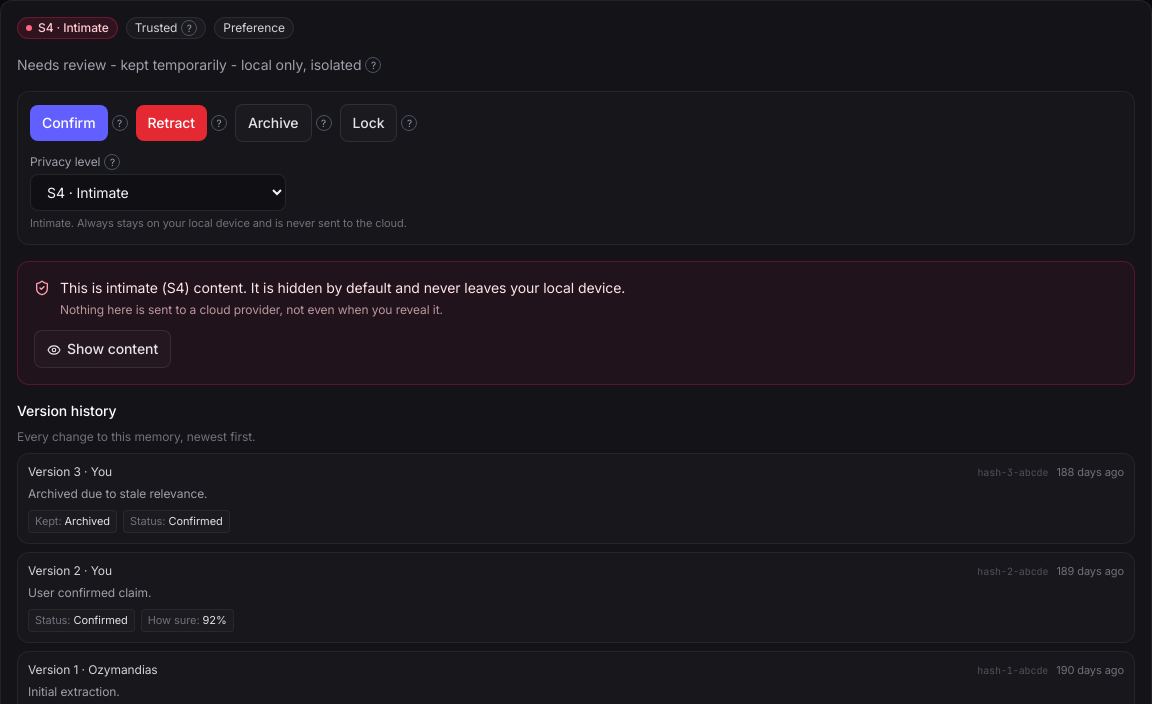
Test: ClaimDetail › reveals the summary sentence after confirming the S4 guard
Click the button "Show content": click(103, 348) [34,330,171,368]
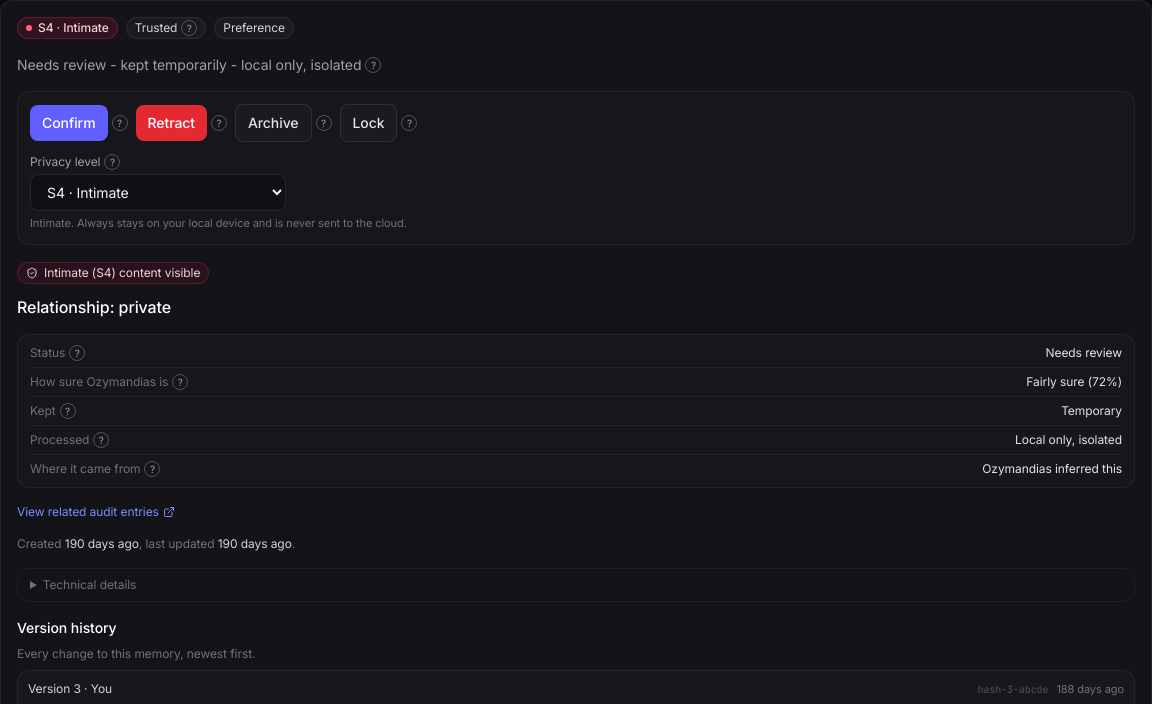
Result: the text "Relationship: private" is shown at [17,296,171,316]
